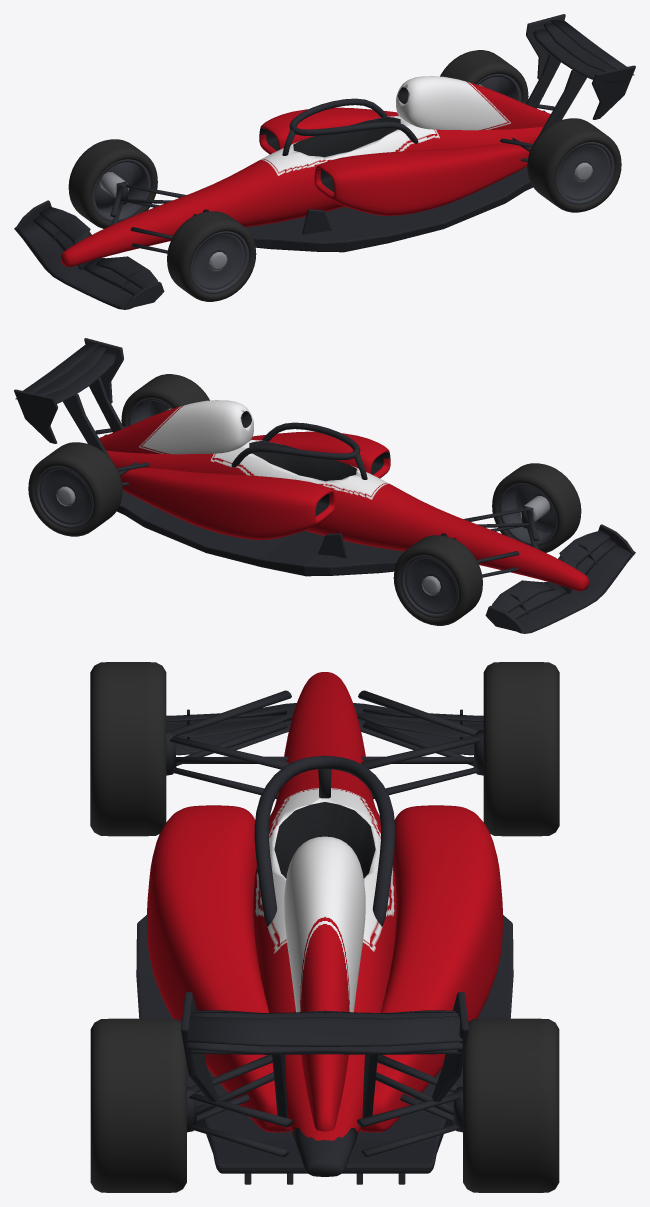
File: SF-26_Preview.glb
3 renders of one model, top to bottom at view 1: azimuth 30°, elevation 25°; view 2: azimuth 150°, elevation 25°; view 3: azimuth 270°, elevation 25°, orthographic. The views are drawn at different scales.
Parts seen in each view (by area): view 1: Monocoque and low nose, Sidepod with recessed intake · L, Low floor and rising rear diffuser, Roll hoop and tapering engine cover, Rear L · slick tyre, Front L · slick tyre, Front R · slick tyre, Front wing · main plane, Sidepod with recessed intake · R, Rear L · dished wheel face, Front L · dished wheel face, Rear R · slick tyre (+19 smaller); view 2: Monocoque and low nose, Sidepod with recessed intake · R, Low floor and rising rear diffuser, Roll hoop and tapering engine cover, Rear R · slick tyre, Front R · slick tyre, Front L · slick tyre, Front wing · main plane, Sidepod with recessed intake · L, Rear R · dished wheel face, Front R · dished wheel face, Rear L · slick tyre (+19 smaller); view 3: Monocoque and low nose, Sidepod with recessed intake · L, Sidepod with recessed intake · R, Rear R · slick tyre, Rear L · slick tyre, Roll hoop and tapering engine cover, Front L · slick tyre, Front R · slick tyre, Low floor and rising rear diffuser, Rear wing · trailing flap, Halo horseshoe, Rear wing · second element (+17 smaller).
Boxes of the visible parts, x1,y1,x2,y2 form: Monocoque and low nose: [60, 115, 543, 267]; Sidepod with recessed intake · L: [314, 143, 530, 215]; Low floor and rising rear diffuser: [245, 110, 545, 252]; Roll hoop and tapering engine cover: [396, 76, 550, 130]; Rear L · slick tyre: [527, 118, 621, 212]; Front L · slick tyre: [167, 211, 256, 301]; Front R · slick tyre: [68, 139, 157, 228]; Front wing · main plane: [14, 222, 133, 309]; Sidepod with recessed intake · R: [259, 107, 398, 154]; Rear L · dished wheel face: [558, 145, 610, 200]; Front L · dished wheel face: [193, 234, 244, 289]; Rear R · slick tyre: [440, 50, 528, 102]; Monocoque and low nose: [106, 439, 589, 591]; Sidepod with recessed intake · R: [118, 467, 335, 539]; Low floor and rising rear diffuser: [104, 434, 404, 576]; Roll hoop and tapering engine cover: [99, 400, 253, 454]; Rear R · slick tyre: [28, 442, 122, 536]; Front R · slick tyre: [393, 535, 482, 625]; Front L · slick tyre: [492, 463, 581, 552]; Front wing · main plane: [516, 546, 635, 633]; Sidepod with recessed intake · L: [251, 431, 390, 478]; Rear R · dished wheel face: [39, 469, 90, 524]; Front R · dished wheel face: [405, 558, 456, 613]; Rear L · slick tyre: [121, 374, 209, 426]; Monocoque and low nose: [253, 672, 396, 1140]; Sidepod with recessed intake · L: [147, 805, 289, 1132]; Sidepod with recessed intake · R: [360, 805, 502, 1132]; Rear R · slick tyre: [463, 1018, 559, 1192]; Rear L · slick tyre: [90, 1018, 186, 1192]; Roll hoop and tapering engine cover: [284, 836, 365, 1131]; Front L · slick tyre: [90, 662, 166, 836]; Front R · slick tyre: [483, 662, 559, 836]; Low floor and rising rear diffuser: [136, 915, 513, 1173]; Rear wing · trailing flap: [187, 1016, 462, 1046]; Halo horseshoe: [254, 756, 395, 926]; Rear wing · second element: [187, 1012, 462, 1054].
Bounding box in the file's own units: 5.1 × 1.06 × 1.89.
Materials: 8 (2 with a texture image).
